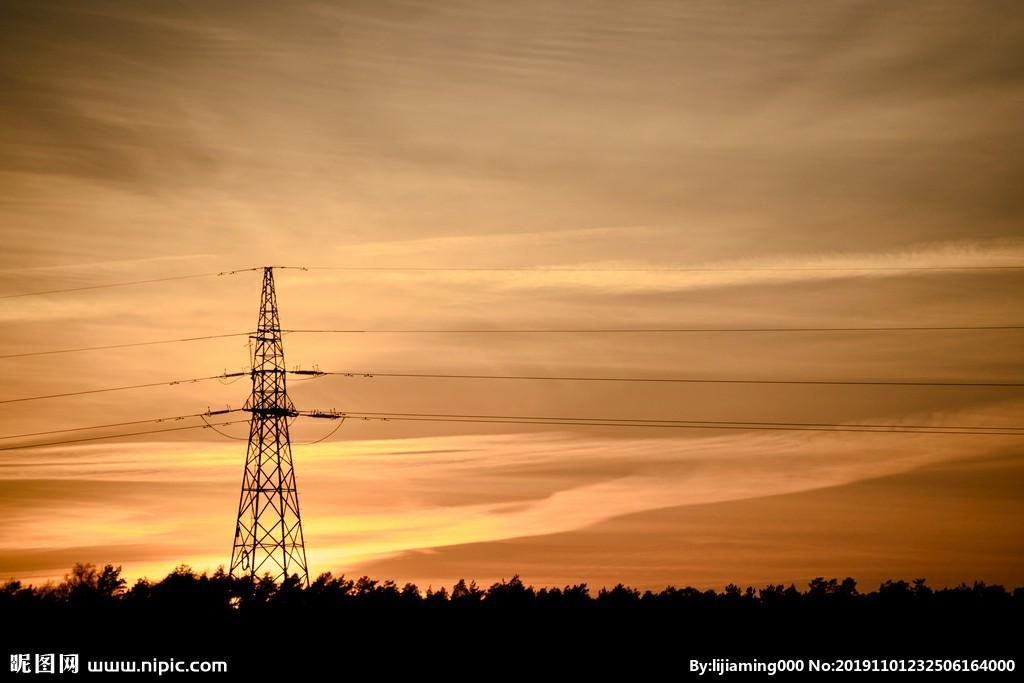power_tower: (193, 253, 342, 585)
